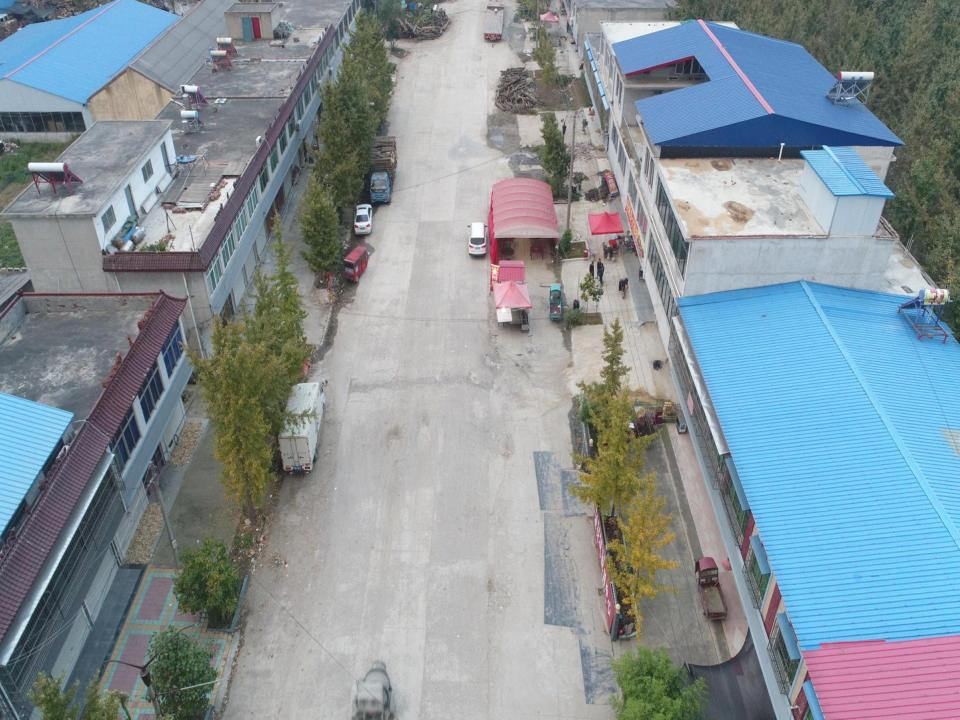car: (466, 221, 488, 257), (353, 204, 373, 235)
truck: (370, 136, 398, 204)
